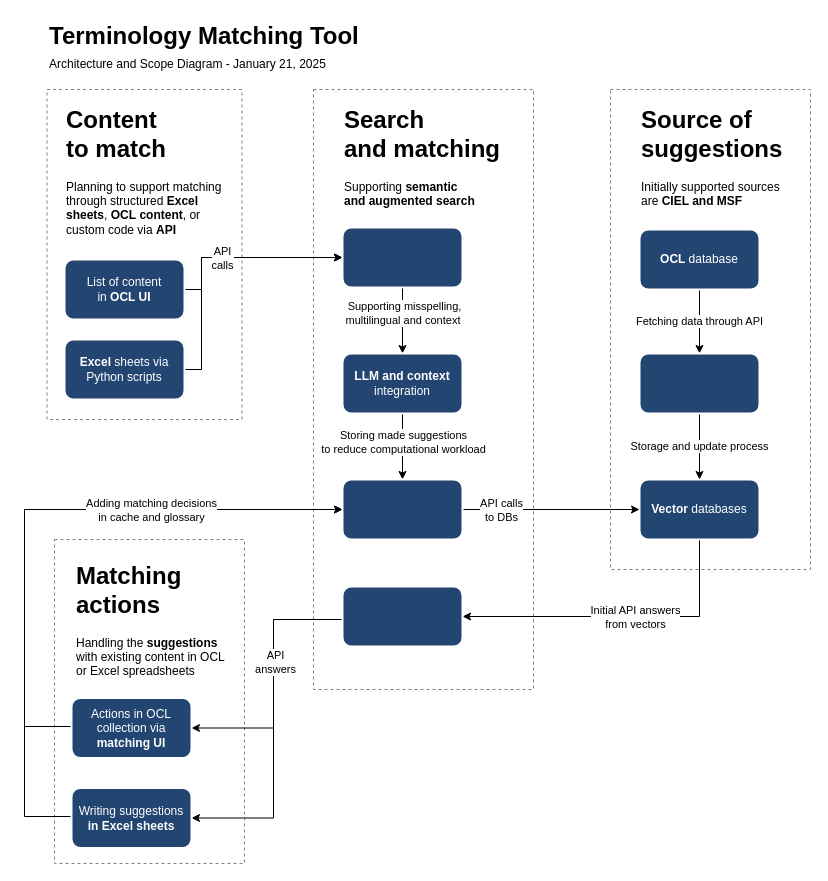
Image size: 828x881. Some labels were removed from this diagram. The box of each missing label's shape, as (x1, y1, x2, y2) in pixels:
Cache engine and organizational glossary: (341, 478, 463, 540)
Embedding process: (638, 352, 760, 414)
Rank and return matching suggestions: (341, 585, 463, 647)
Search and matching API: (341, 226, 463, 288)
